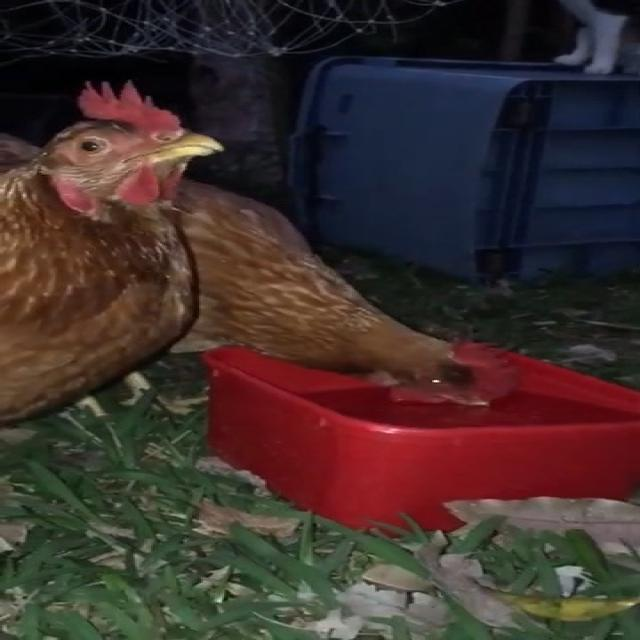drinking: (85, 194, 530, 442)
